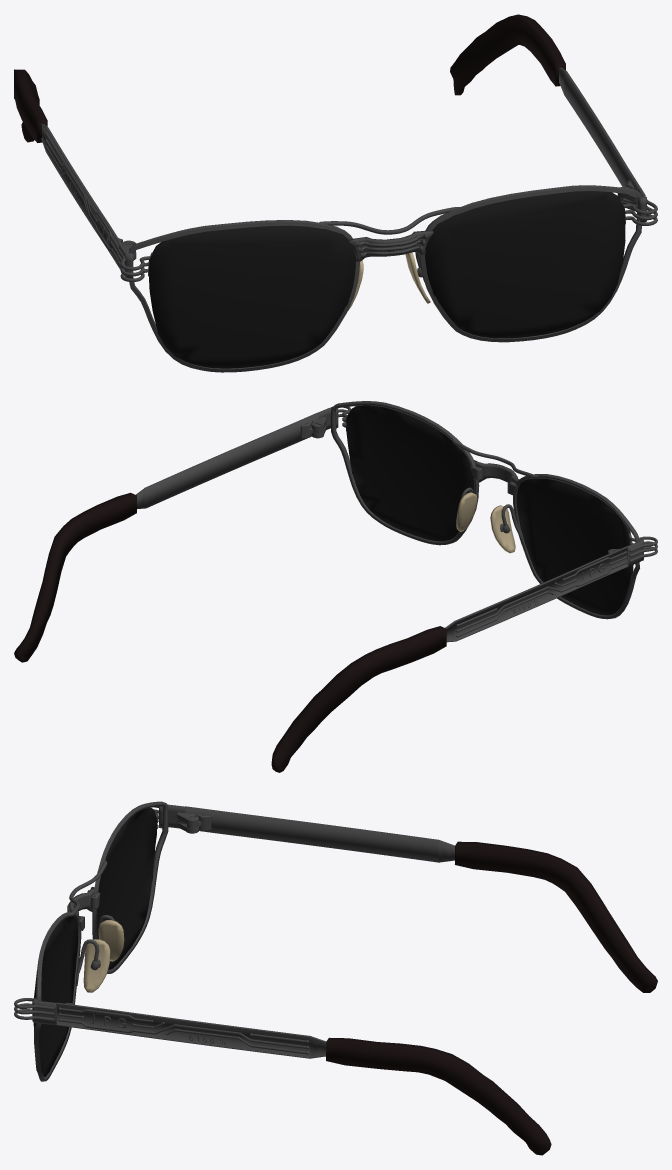
File: glasses_1.glb
The picture shows the model from 3 angles, top to bottom: view 1: azimuth 30°, elevation 25°; view 2: azimuth 150°, elevation 25°; view 3: azimuth 270°, elevation 25°; orthographic projection. The views are drawn at different scales.
Visible parts, largest first — view 1: steklyashka; view 2: steklyashka; view 3: steklyashka.
Boxes of the visible parts, x1,y1,x2,y2 form: steklyashka: [14, 14, 657, 372]; steklyashka: [14, 401, 657, 772]; steklyashka: [14, 801, 657, 1155].
Bounding box in the file's own units: 427 × 109 × 470.
